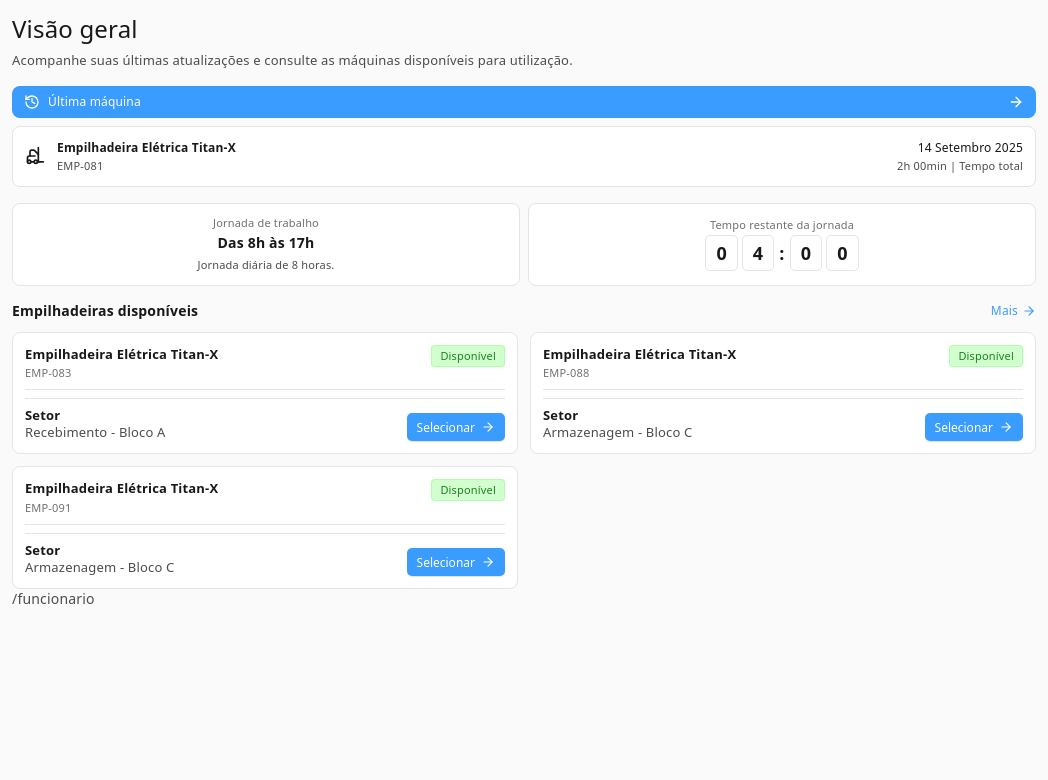
EmployeeHomePage › "Mais" goes to the machines list
The image size is (1048, 780).
Click the link "Mais" at (1013, 311), box [991, 302, 1036, 320]
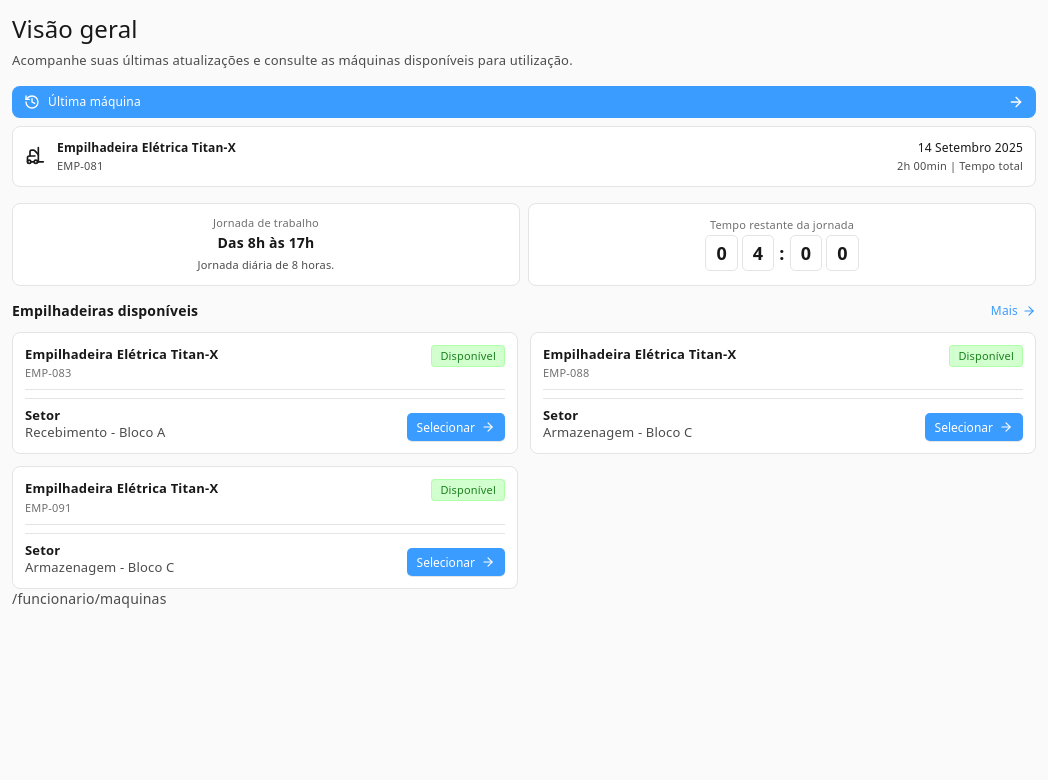
Expected: the text with test id "where" reads "/funcionario/maquinas", [12, 589, 166, 608]
